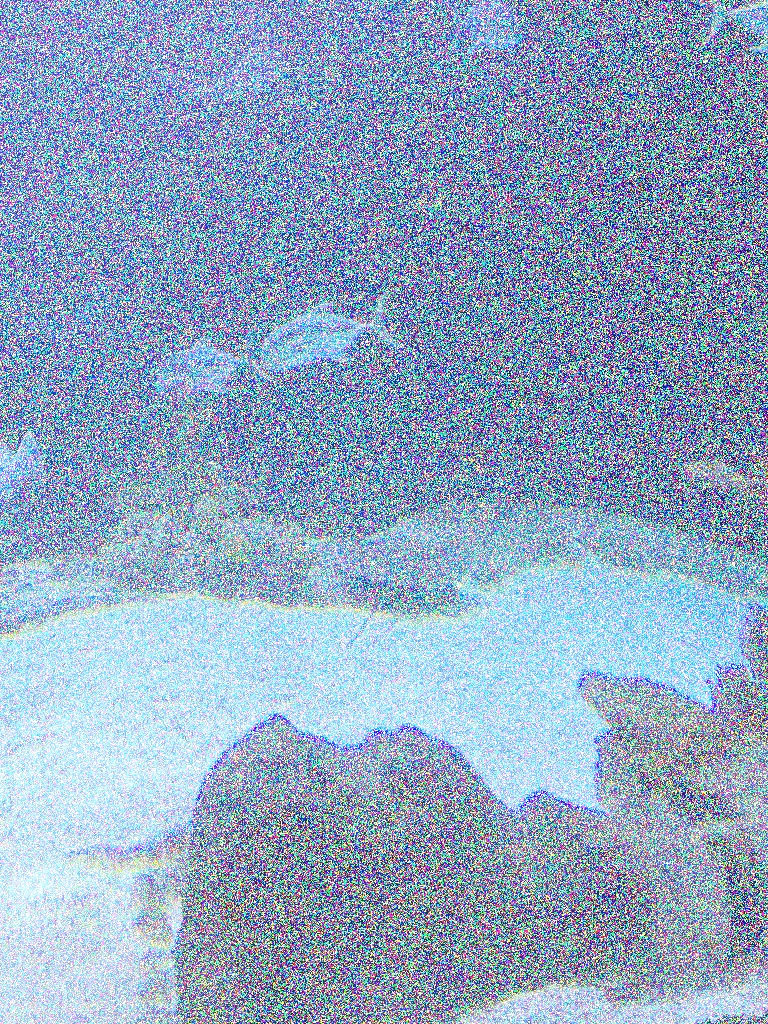fish: (257, 286, 405, 374), (153, 327, 278, 401), (442, 2, 522, 58), (0, 430, 42, 536), (703, 0, 767, 56)
shark: (150, 4, 314, 108), (38, 264, 166, 348)
stingray: (335, 530, 472, 594)
